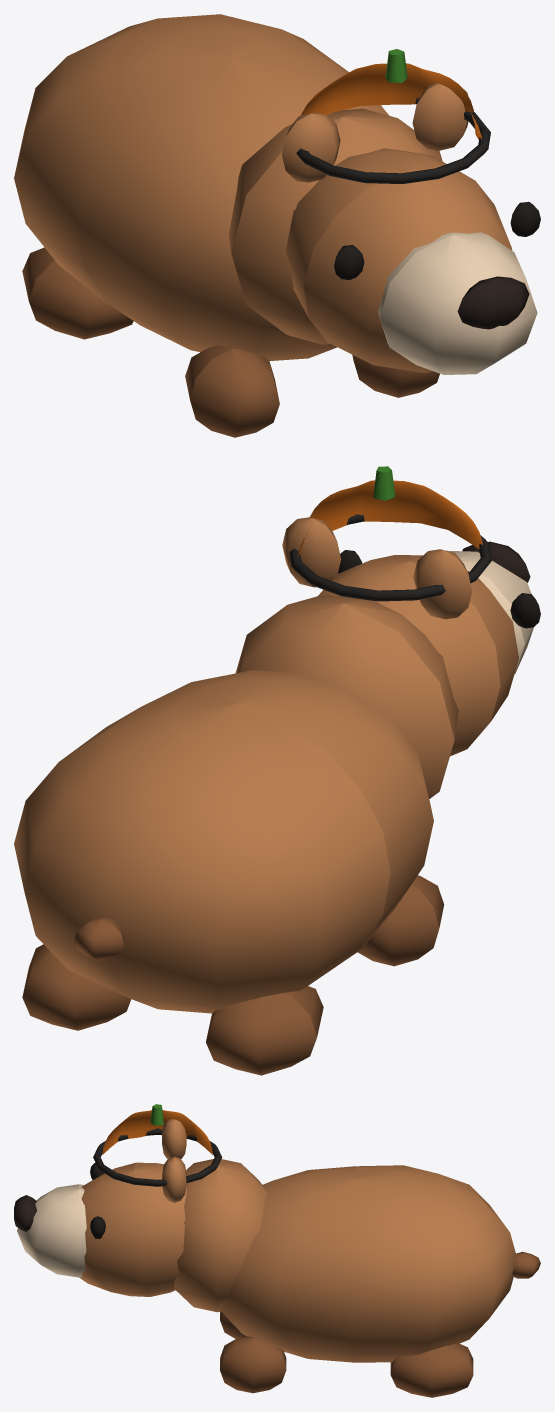
Rendered from bara_basket.14e1d3ca.glb.
The picture shows the model from 3 angles, top to bottom: view 1: azimuth 30°, elevation 25°; view 2: azimuth 150°, elevation 25°; view 3: azimuth 270°, elevation 25°; orthographic projection. The views are drawn at different scales.
Visible parts, largest first — view 1: bara_basket; view 2: bara_basket; view 3: bara_basket.
Boxes of the visible parts, bbox=[...] form: bara_basket: bbox=[14, 14, 540, 437]; bara_basket: bbox=[14, 466, 540, 1075]; bara_basket: bbox=[14, 1104, 540, 1397].
Bounding box in the file's own units: 0.096 × 0.1206 × 0.2208.
